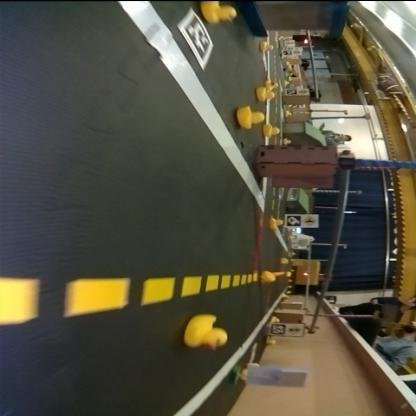Duckie: (184, 315, 229, 349), (203, 1, 237, 22), (238, 106, 264, 129), (256, 86, 275, 100), (262, 270, 278, 284), (263, 125, 281, 136), (272, 218, 284, 230), (261, 41, 274, 49), (266, 80, 278, 88), (281, 258, 289, 264), (284, 110, 292, 115), (286, 139, 292, 144)
Intersection sign: (304, 215, 317, 226)
QR code: (178, 8, 216, 70), (271, 324, 287, 334), (288, 215, 302, 226)
Signal sign: (288, 325, 302, 335), (299, 88, 309, 94)
